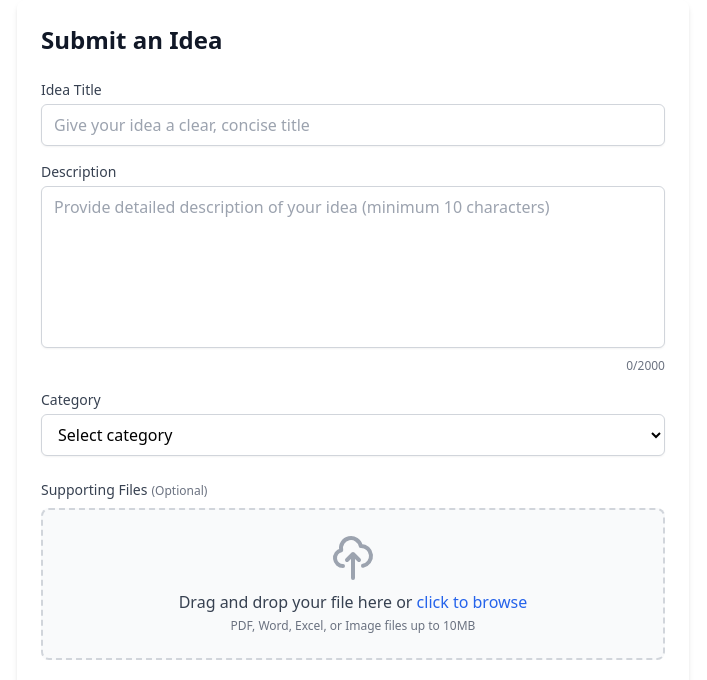
IdeaSubmissionForm › form submission › should enable Submit button only when all fields are valid
Type "Valid Title" into the field labelled "Idea Title" at (353, 125), box [41,104,665,146]
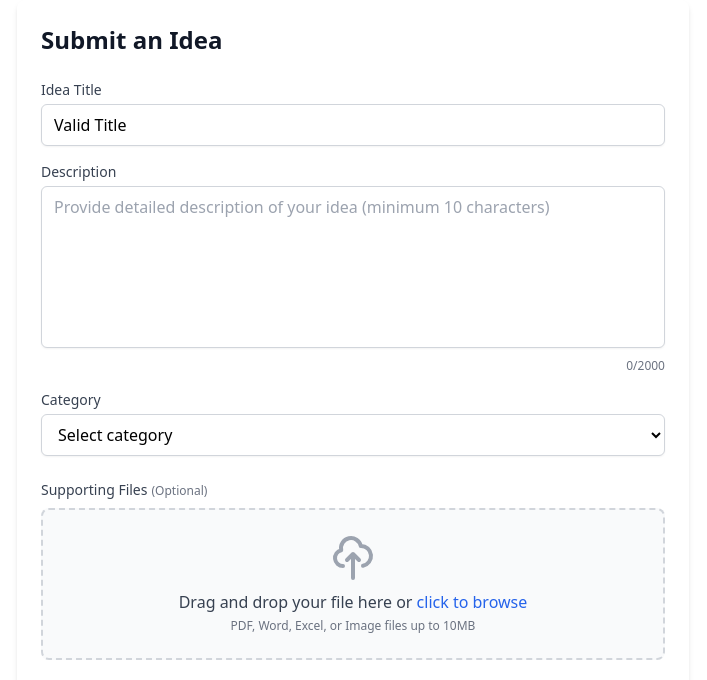
Replace the text in the text box labelled "Description" with "Valid description text here" at (353, 267), box [41,186,665,348]
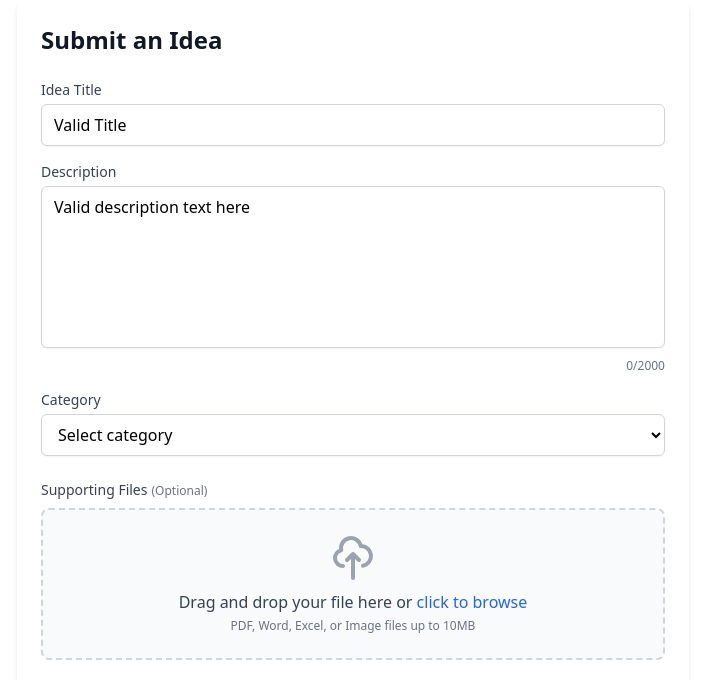
Select "Innovation" in the dropdown labelled "Category" at (353, 435), box [41,414,665,456]
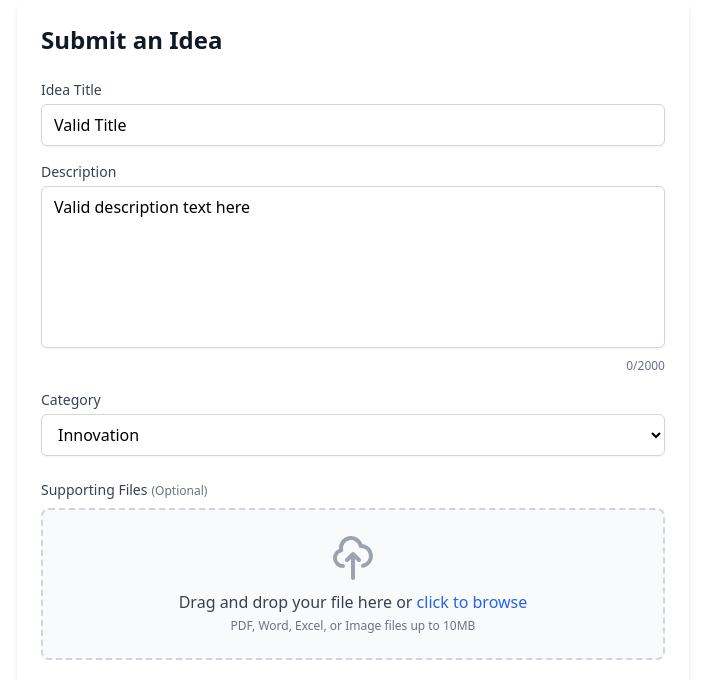
Leave the dropdown labelled "Category", box [41,414,665,456]
(page scrolled)
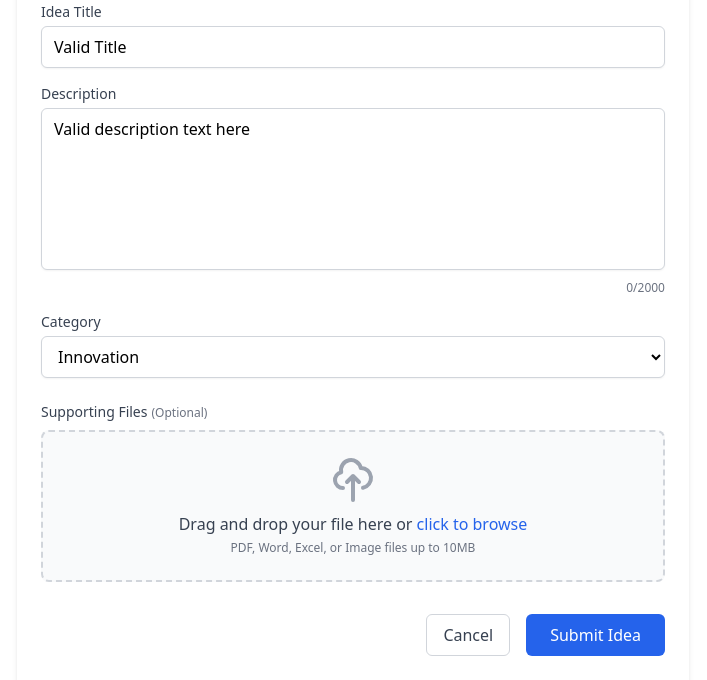
Now the button "Submit Idea" is enabled, box [526,614,665,656]
